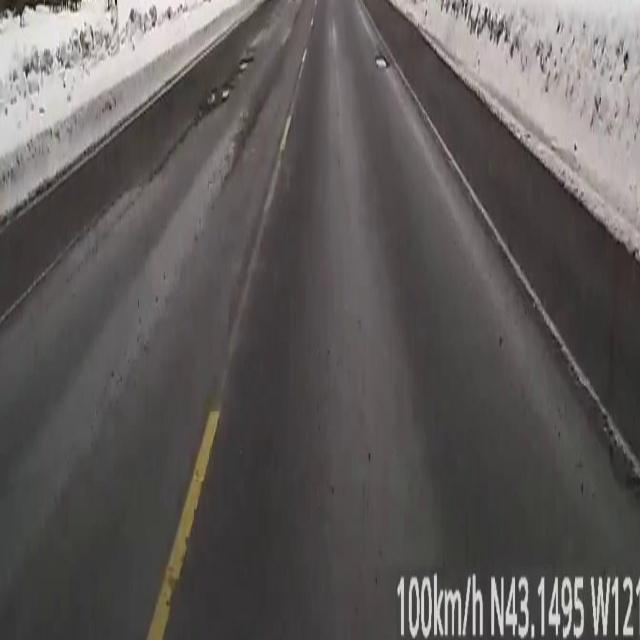pothole: (205, 82, 235, 110), (239, 59, 251, 70), (376, 58, 388, 68)
